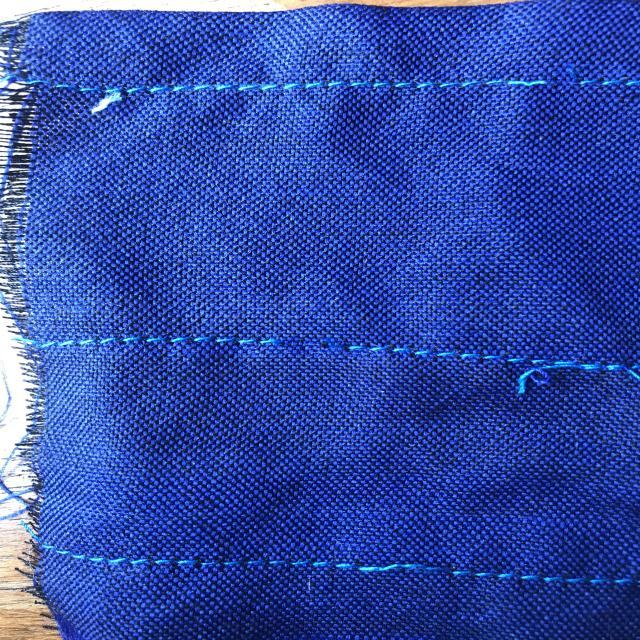broken: (235, 313, 393, 395)
good: (160, 540, 292, 585), (203, 69, 351, 105)
